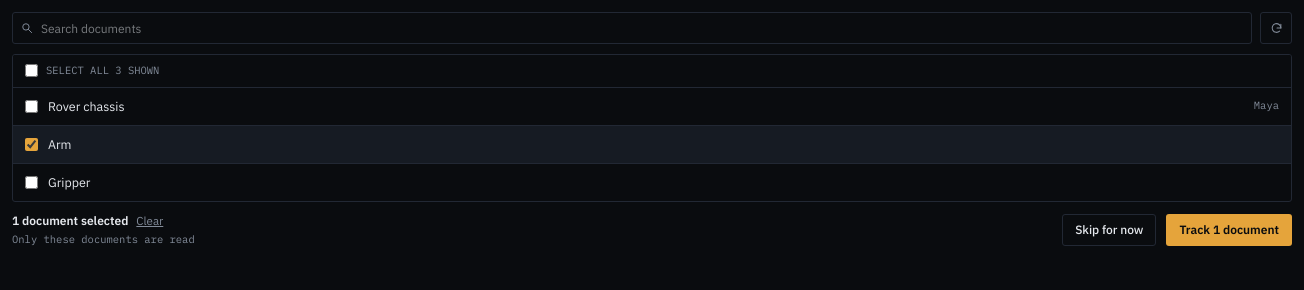
Test case: refresh › keeps the old listing and selection when refresh fails
This screenshot has width=1304, height=290.
Click the button named "Refresh documents".
click(1276, 28)  # box [1260,12,1292,44]
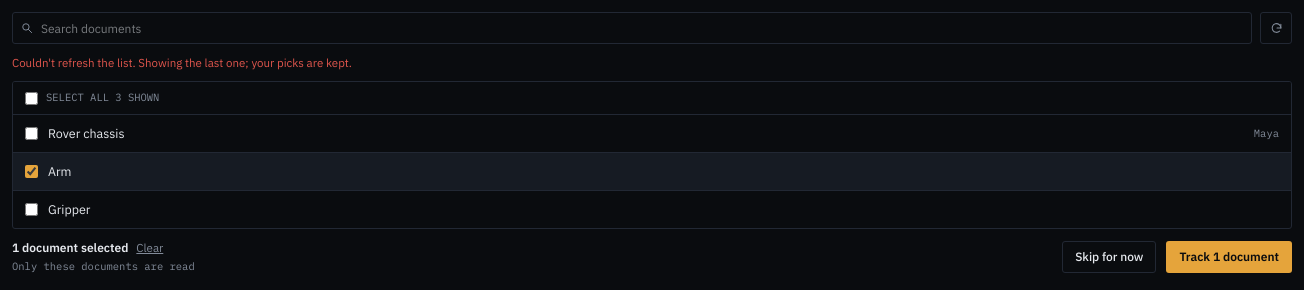
expect the checkbox labelled "Arm" is checked: met, box [25,165,38,178]
expect the message shows "Couldn't refresh": met, box [12,55,352,70]
